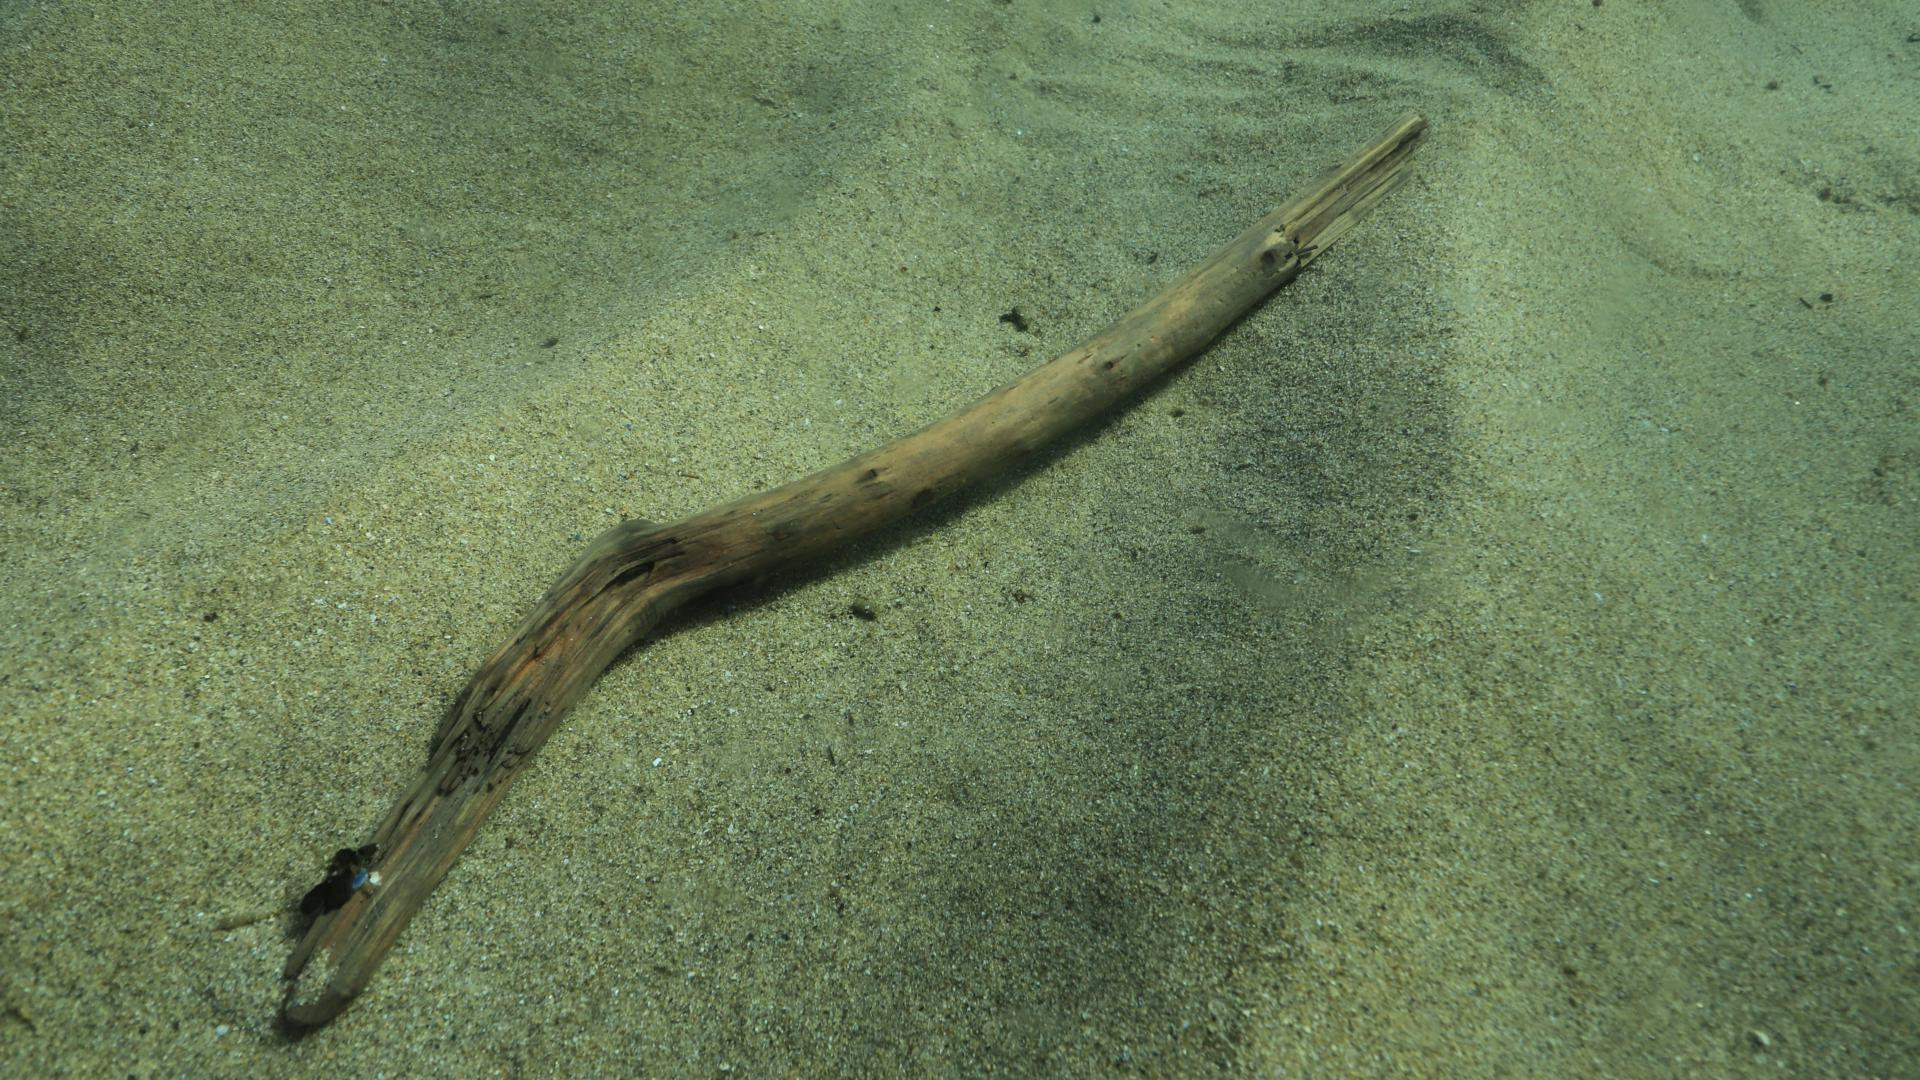wood: (276, 109, 1429, 1033)
